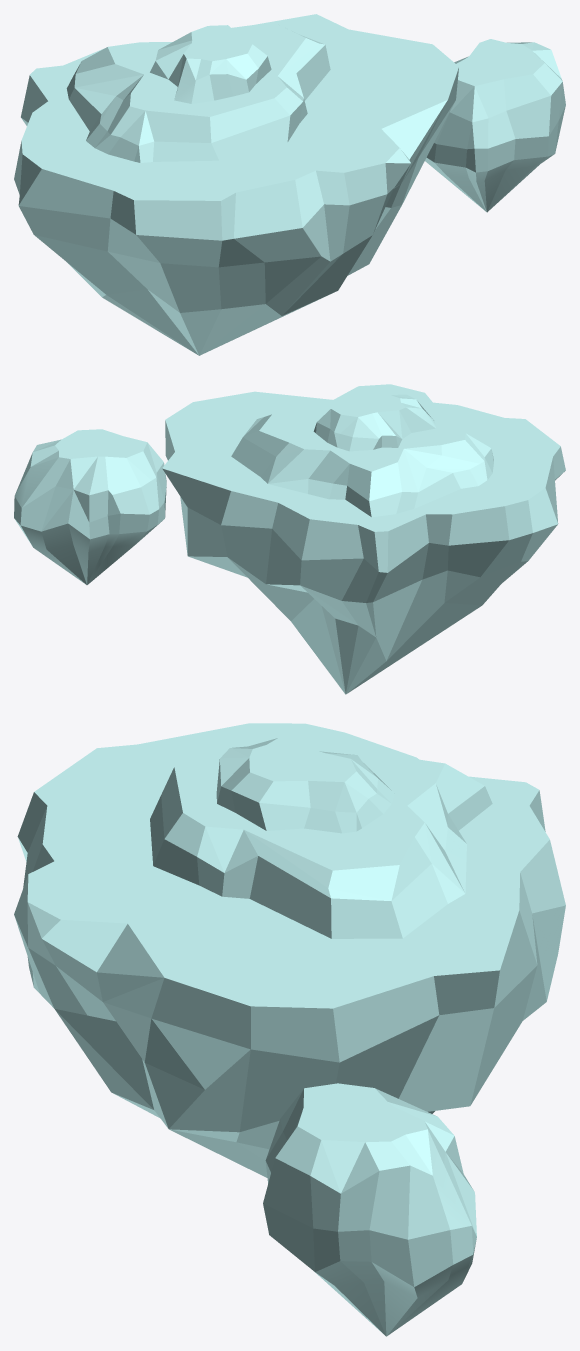
The model's file is decor_iceberg.fbx.
The picture shows the model from 3 angles, top to bottom: view 1: azimuth 30°, elevation 25°; view 2: azimuth 150°, elevation 25°; view 3: azimuth 270°, elevation 25°; orthographic projection. The views are drawn at different scales.
Parts seen in each view (by area): view 1: pCylinder4, pCylinder6, pCylinder5, pCylinder7; view 2: pCylinder4, pCylinder5, pCylinder6, pCylinder7; view 3: pCylinder4, pCylinder5, pCylinder6, pCylinder7.
Boxes of the visible parts, box(x1,y1,x2,y2) form: pCylinder4: box(14, 14, 458, 355); pCylinder6: box(66, 22, 330, 162); pCylinder5: box(425, 39, 565, 212); pCylinder7: box(150, 25, 271, 103); pCylinder4: box(162, 384, 565, 694); pCylinder5: box(14, 429, 166, 584); pCylinder6: box(231, 405, 493, 517); pCylinder7: box(313, 390, 435, 451); pCylinder4: box(14, 723, 565, 1177); pCylinder5: box(263, 1083, 476, 1336); pCylinder6: box(150, 733, 492, 938); pCylinder7: box(216, 738, 394, 833).
Size of the model in its own units: 21.4 by 11.63 by 12.71.
